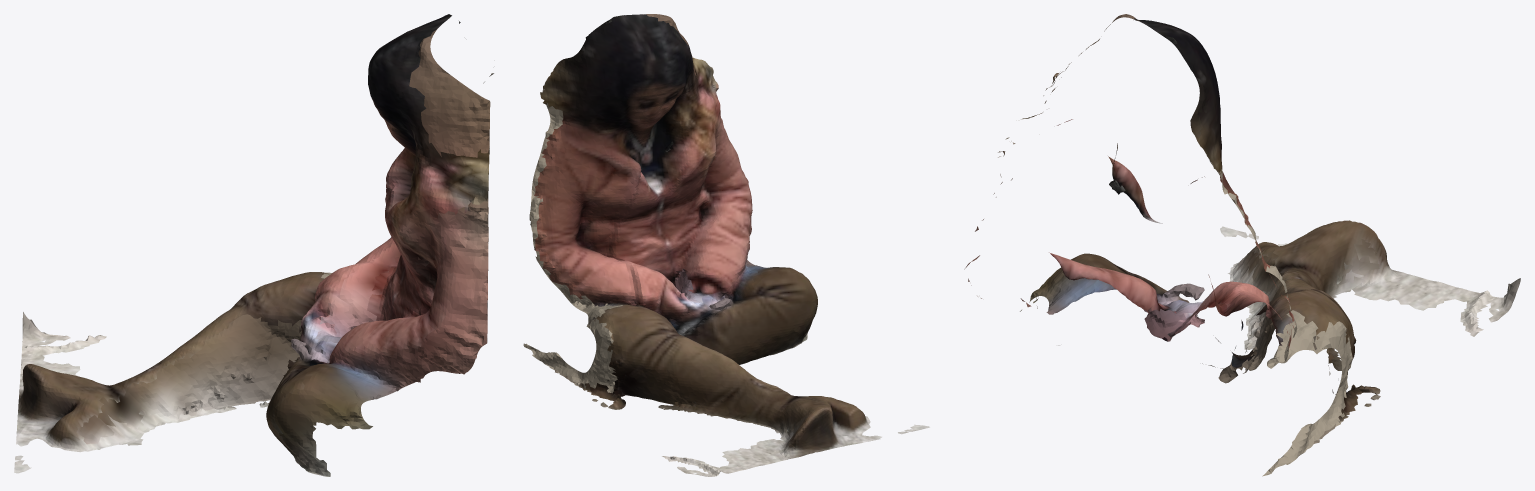
The picture shows the model from 3 angles, left to right: view 1: azimuth 30°, elevation 25°; view 2: azimuth 150°, elevation 25°; view 3: azimuth 270°, elevation 25°; orthographic projection. The views are drawn at different scales.
Bounding box in the file's own units: 0.9881 × 0.7496 × 0.9352.
Materials: 1 (1 with a texture image).
